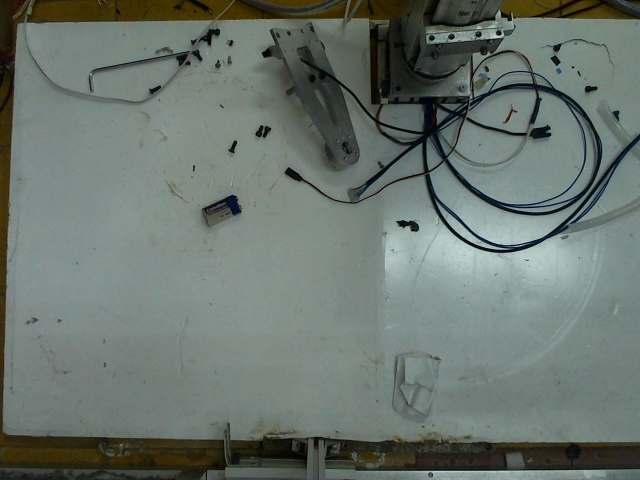battery: (198, 194, 246, 228)
